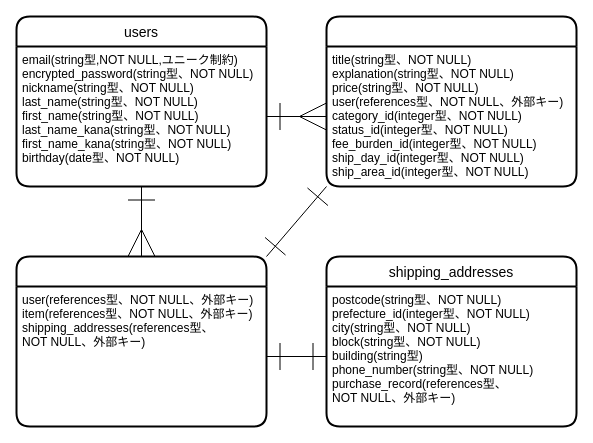
The diagram is 593 pixels wide and 443 high, and some of its shapes have lost their labels. The box of each missing label's shape, as (x1, y1, x2, y2) in pixels:
items: (325, 15, 577, 187)
purchase_records: (15, 255, 267, 427)
